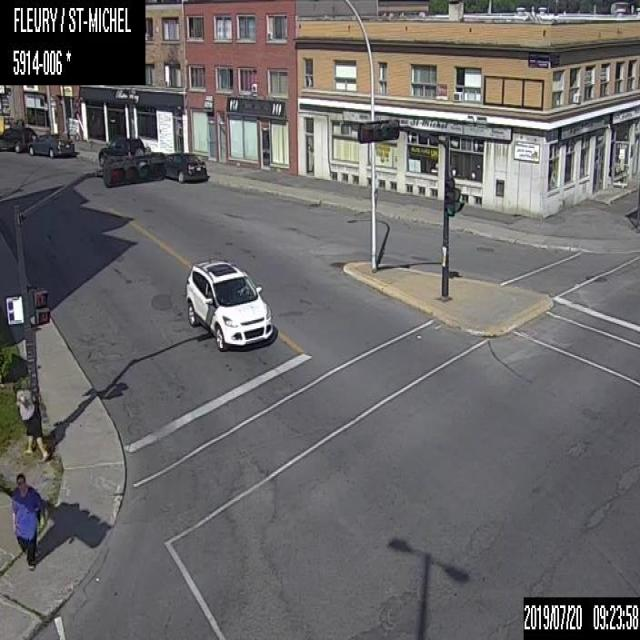pedestrian: (10, 469, 45, 574), (10, 378, 49, 461)
vehicle: (182, 254, 274, 354), (163, 148, 209, 184), (96, 133, 146, 164), (26, 130, 74, 158), (0, 119, 35, 152)
